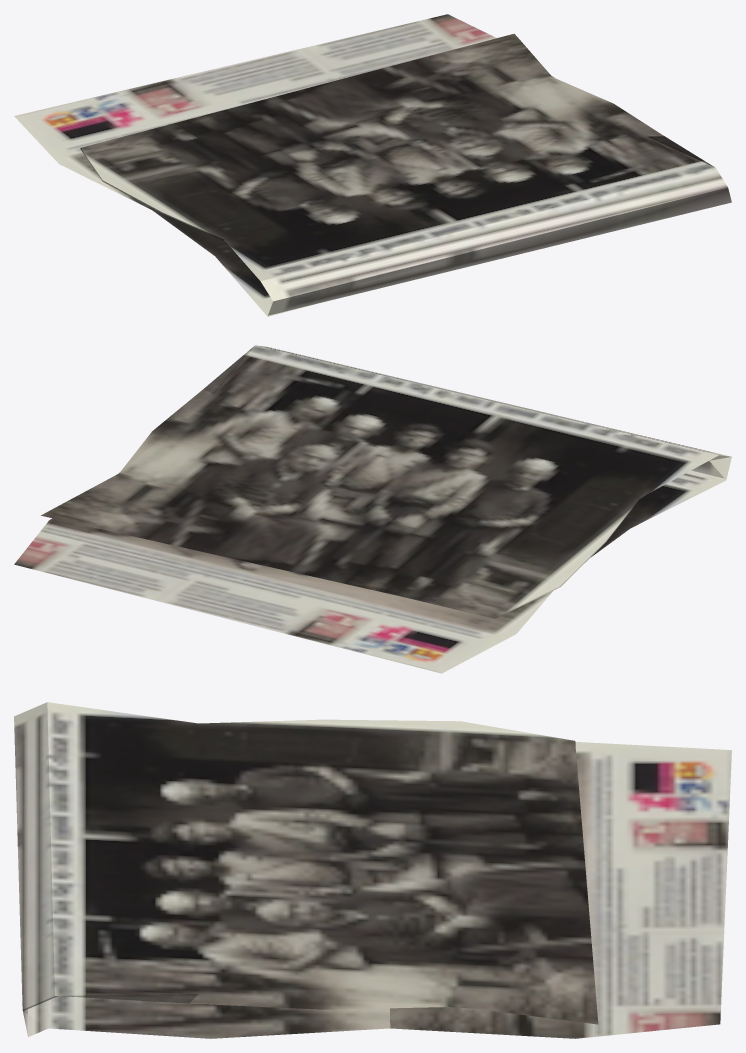
Rendered from PAPER 1.fbx.
3 renders of one model, top to bottom at view 1: azimuth 30°, elevation 25°; view 2: azimuth 150°, elevation 25°; view 3: azimuth 270°, elevation 25°, orthographic. The views are drawn at different scales.
Parts seen in each view (by area): view 1: PAPER; view 2: PAPER; view 3: PAPER.
Boxes of the visible parts, left/top/right/bottom form: PAPER: left=14, top=14, right=731, bottom=316; PAPER: left=14, top=345, right=731, bottom=673; PAPER: left=14, top=702, right=731, bottom=1038.
Bounding box in the file's own units: 0.3638 × 0.3716 × 0.0227.
